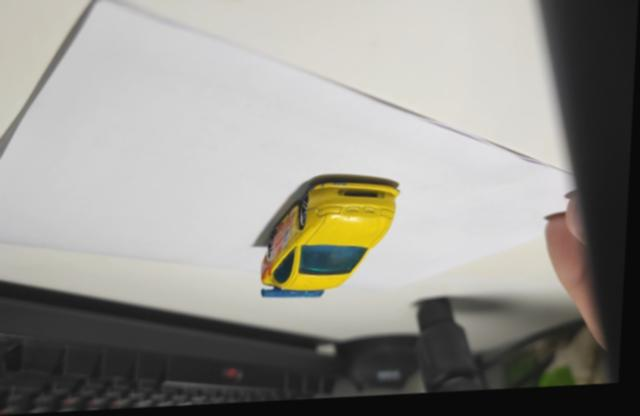02_OZSOME: (263, 178, 402, 301)
